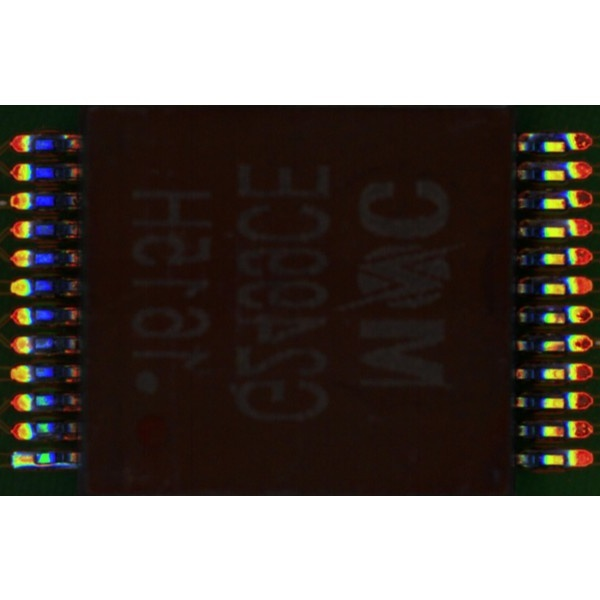Bad_podu: (39, 462, 77, 467)
Bad_qiaojiao: (24, 454, 46, 464)
